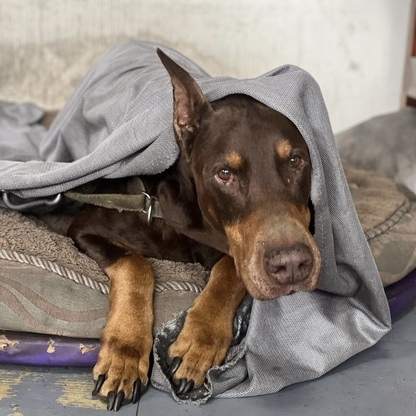doberman: (52, 48, 321, 376)
